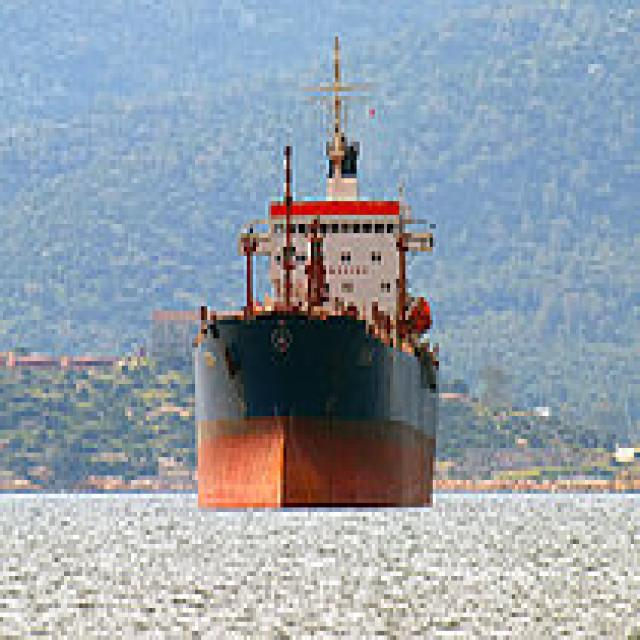Tanker: (189, 28, 442, 516)
